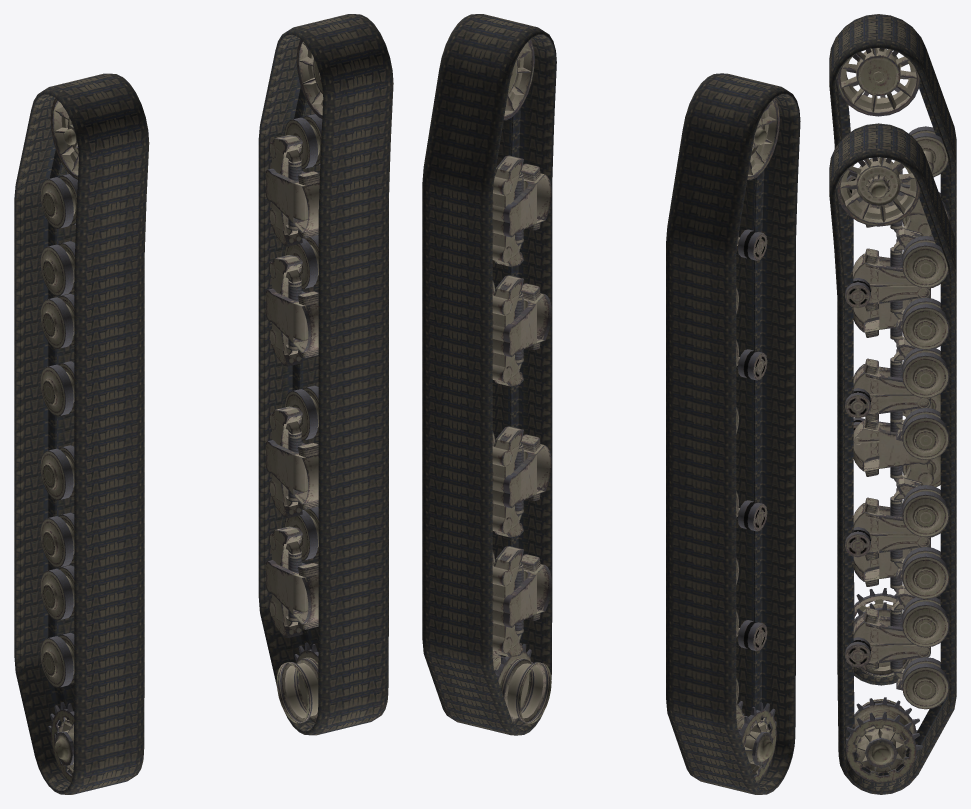
The model's file is Chassis.glb.
3 renders of one model, left to right at view 1: azimuth 30°, elevation 25°; view 2: azimuth 150°, elevation 25°; view 3: azimuth 270°, elevation 25°, orthographic. The views are drawn at different scales.
Parts seen in each view (by area): view 1: set_0_group_0, set_1_group_0, set_3_group_0, set_2_group_0; view 2: set_0_group_0, set_1_group_0, set_3_group_0, set_2_group_0; view 3: set_3_group_0, set_1_group_0, set_2_group_0, set_0_group_0.
Part boxes in pixels (x1,y1,x2,y2): set_0_group_0: (14,73,149,794); set_1_group_0: (258,14,393,735); set_3_group_0: (265,39,323,723); set_2_group_0: (40,98,78,782); set_0_group_0: (666,73,800,794); set_1_group_0: (422,14,556,735); set_3_group_0: (492,39,551,723); set_2_group_0: (736,98,779,782); set_3_group_0: (837,157,949,782); set_1_group_0: (829,123,956,794); set_2_group_0: (837,48,949,677); set_0_group_0: (829,14,956,685).
Size of the model in its own units: 3.55 by 7.61 by 1.36.
4 materials, 4 textured.
